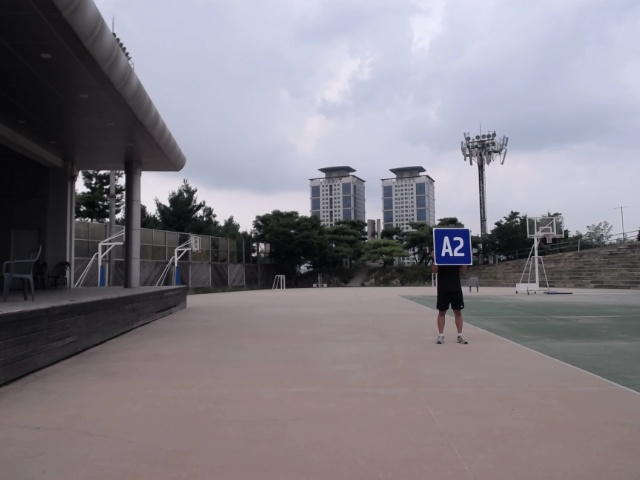delivery_a2: (434, 228, 471, 265)
